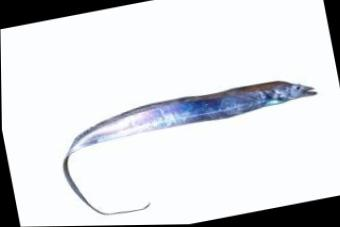fish: (62, 80, 313, 215)
